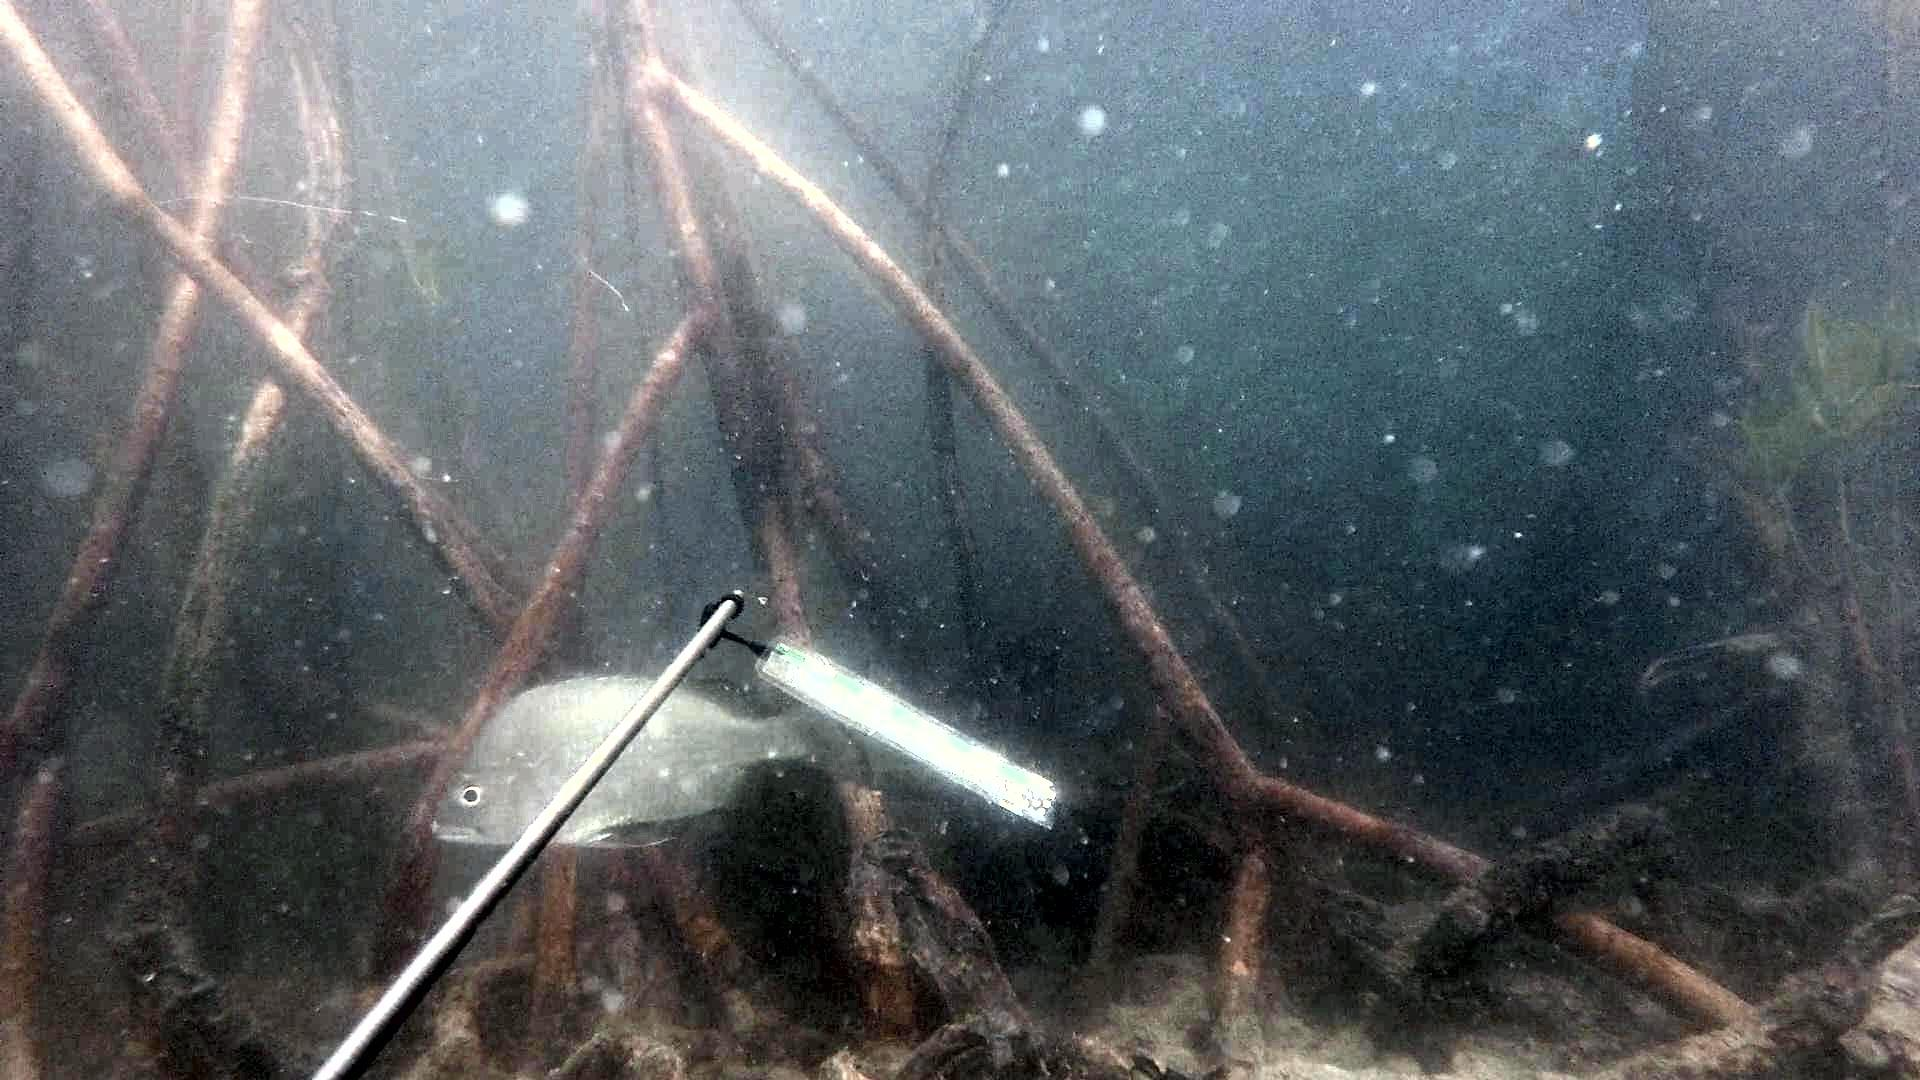acanthopagrus palmaris: (417, 663, 916, 869)
